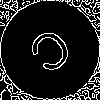C: (25, 25, 82, 84)
